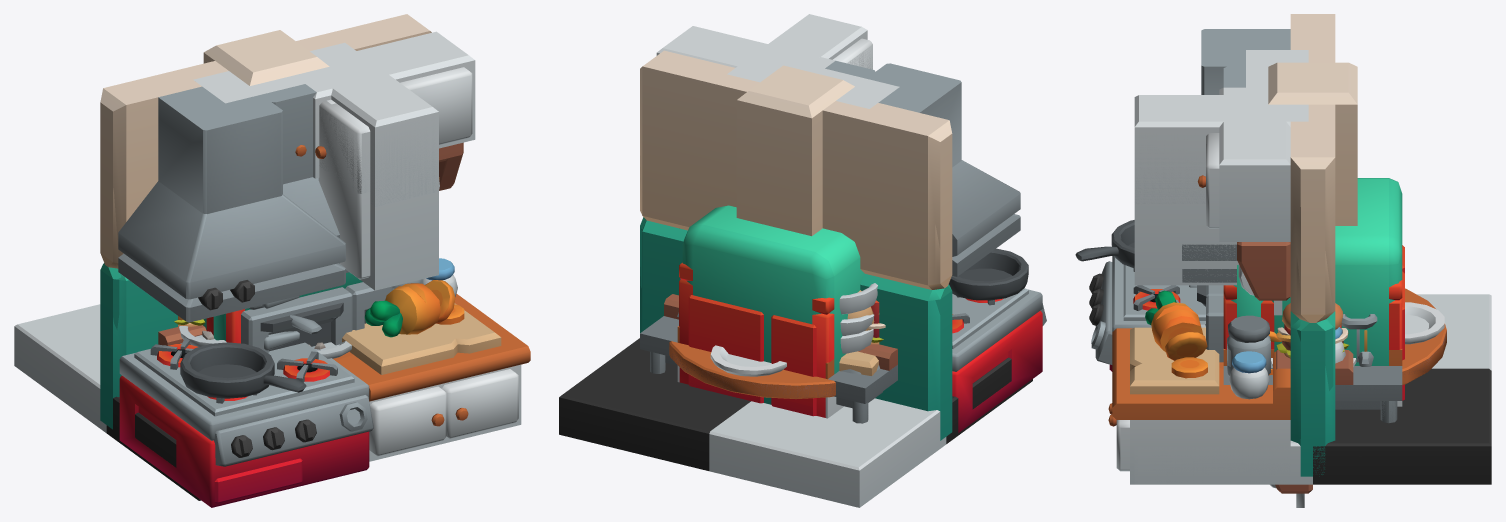
Rendered from restaurant.glb.
The picture shows the model from 3 angles, left to right: view 1: azimuth 30°, elevation 25°; view 2: azimuth 150°, elevation 25°; view 3: azimuth 270°, elevation 25°; orthographic projection. The views are drawn at different scales.
Visible parts, largest first — view 1: wall_decorated, kitchencabinet_corner, kitchencabinet_corner_half, floor_kitchen, extractorhood, oven_door, pillar_B, kitchencabinet_half, Cube.068, wall_orderwindow, fridge_B_door, table_round_A_decorated (+1 smaller); view 2: wall_decorated, wall, floor_kitchen, pillar_B, Cube.106, Cube.068, kitchencabinet_corner_half, wall_doorway, table_round_A_decorated, kitchentable_sink_large_decorated, Cube.616, table_round_A (+9 smaller); view 3: wall_decorated, floor_kitchen, kitchencabinet_corner, kitchencabinet_corner_half, Cube.616, wall_half, pillar_B, Cube.106, table_round_A_decorated, Cube.068, wall, extractorhood (+9 smaller).
Part boxes in pixels (left/top/right/bottom): wall_decorated: left=100, top=14, right=530, bottom=507; kitchencabinet_corner: left=318, top=95, right=438, bottom=290; kitchencabinet_corner_half: left=195, top=42, right=438, bottom=206; floor_kitchen: left=14, top=304, right=200, bottom=500; extractorhood: left=262, top=84, right=348, bottom=272; oven_door: left=241, top=287, right=352, bottom=353; pillar_B: left=203, top=30, right=329, bottom=85; kitchencabinet_half: left=193, top=43, right=371, bottom=156; Cube.068: left=206, top=282, right=392, bottom=343; wall_orderwindow: left=108, top=188, right=206, bottom=345; fridge_B_door: left=213, top=309, right=299, bottom=350; table_round_A_decorated: left=174, top=319, right=353, bottom=360; wall_decorated: left=640, top=26, right=1046, bottom=440; wall: left=642, top=66, right=927, bottom=411; floor_kitchen: left=559, top=338, right=1032, bottom=507; pillar_B: left=736, top=65, right=854, bottom=236; Cube.106: left=682, top=205, right=860, bottom=404; Cube.068: left=679, top=262, right=834, bottom=417; kitchencabinet_corner_half: left=727, top=14, right=899, bottom=108; wall_doorway: left=642, top=67, right=927, bottom=409; table_round_A_decorated: left=669, top=307, right=885, bottom=398; kitchentable_sink_large_decorated: left=640, top=283, right=897, bottom=422; Cube.616: left=690, top=205, right=864, bottom=373; table_round_A: left=669, top=342, right=835, bottom=398; wall_decorated: left=1075, top=14, right=1335, bottom=484; floor_kitchen: left=1134, top=294, right=1491, bottom=484; kitchencabinet_corner: left=1134, top=127, right=1238, bottom=285; kitchencabinet_corner_half: left=1134, top=50, right=1308, bottom=203; Cube.616: left=1272, top=178, right=1388, bottom=365; wall_half: left=1293, top=158, right=1335, bottom=476; pillar_B: left=1268, top=62, right=1357, bottom=225; Cube.106: left=1274, top=178, right=1402, bottom=365; table_round_A_decorated: left=1201, top=288, right=1446, bottom=384; Cube.068: left=1206, top=245, right=1404, bottom=400; wall: left=1309, top=169, right=1325, bottom=449; extractorhood: left=1182, top=66, right=1245, bottom=282.
Size of the model in its own units: 4.01 by 5.01 by 4.66.
1 material, 1 textured.
